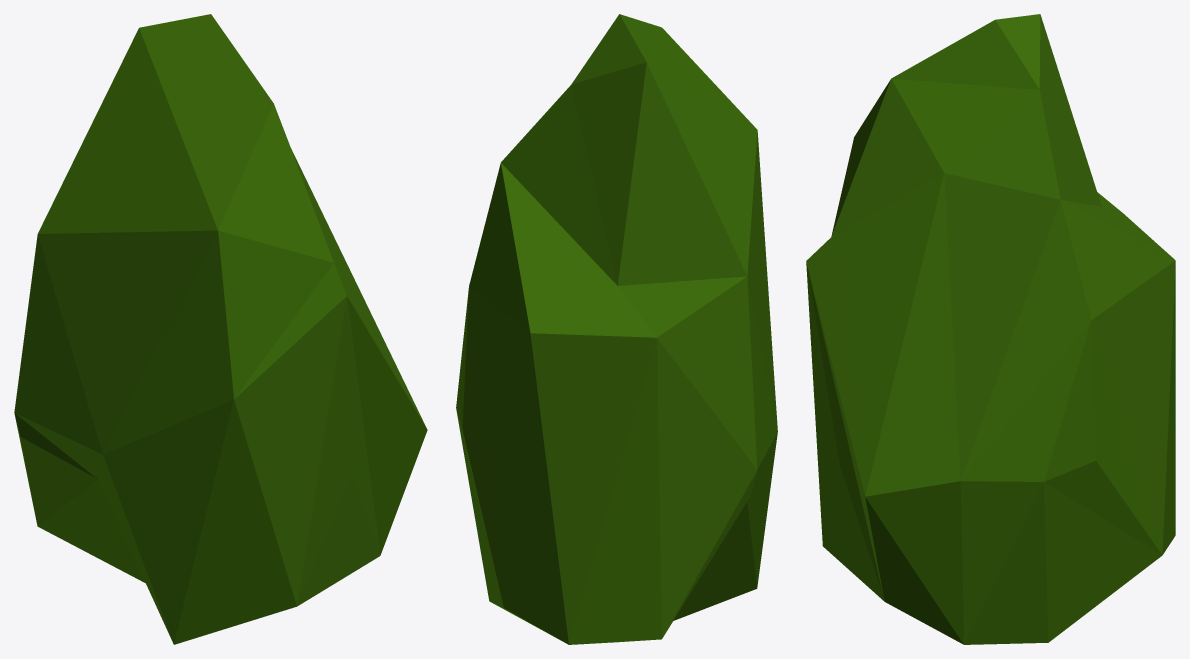
The model's file is bush_3.FBX.
3 renders of one model, left to right at view 1: azimuth 30°, elevation 25°; view 2: azimuth 150°, elevation 25°; view 3: azimuth 270°, elevation 25°, orthographic. The views are drawn at different scales.
Parts seen in each view (by area): view 1: bush_3; view 2: bush_3; view 3: bush_3.
Part boxes in pixels (<box>): bush_3: <box>14,14,427,644</box>; bush_3: <box>456,14,777,644</box>; bush_3: <box>806,14,1175,644</box>.
Size of the model in its own units: 533 by 947 by 536.
